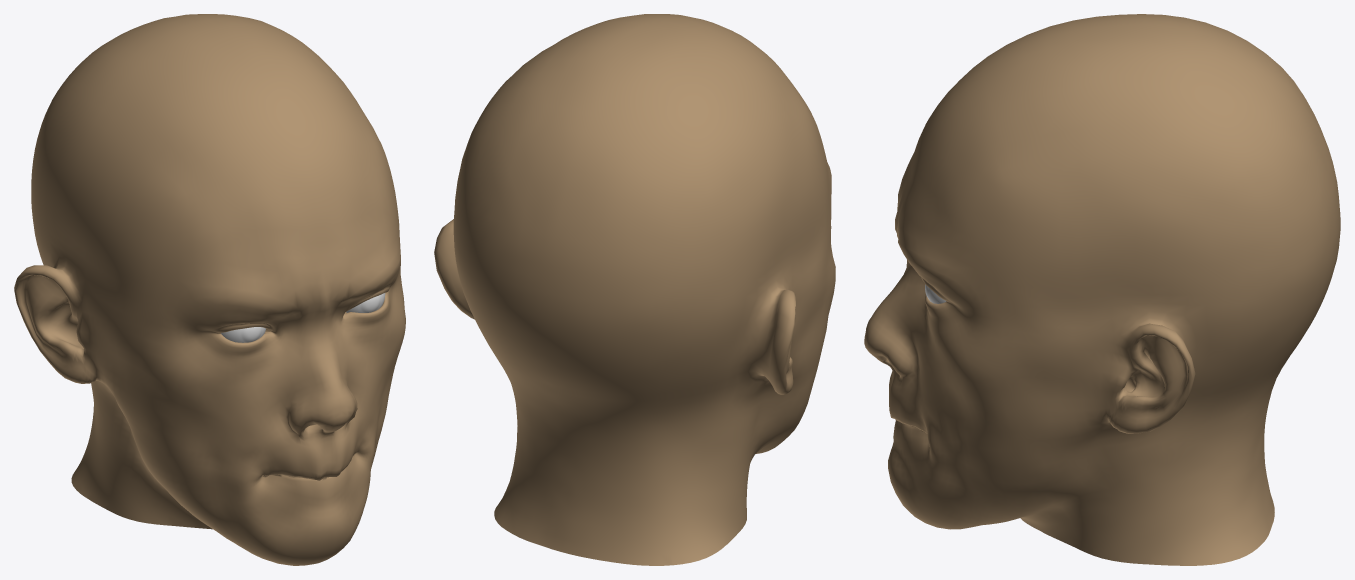
Rendered from headup.fbx.
3 renders of one model, left to right at view 1: azimuth 30°, elevation 25°; view 2: azimuth 150°, elevation 25°; view 3: azimuth 270°, elevation 25°, orthographic. The views are drawn at different scales.
Visible parts, largest first — view 1: HG_Body.004, HG_Eyes.009; view 2: HG_Body.004; view 3: HG_Body.004.
Part boxes in pixels (box(x1,y1,x2,y2)): HG_Body.004: box(14, 14, 405, 565); HG_Eyes.009: box(221, 293, 385, 342); HG_Body.004: box(434, 14, 835, 565); HG_Body.004: box(864, 14, 1340, 565).
Bounding box in the file's own units: 6.33 × 8.01 × 7.09.
